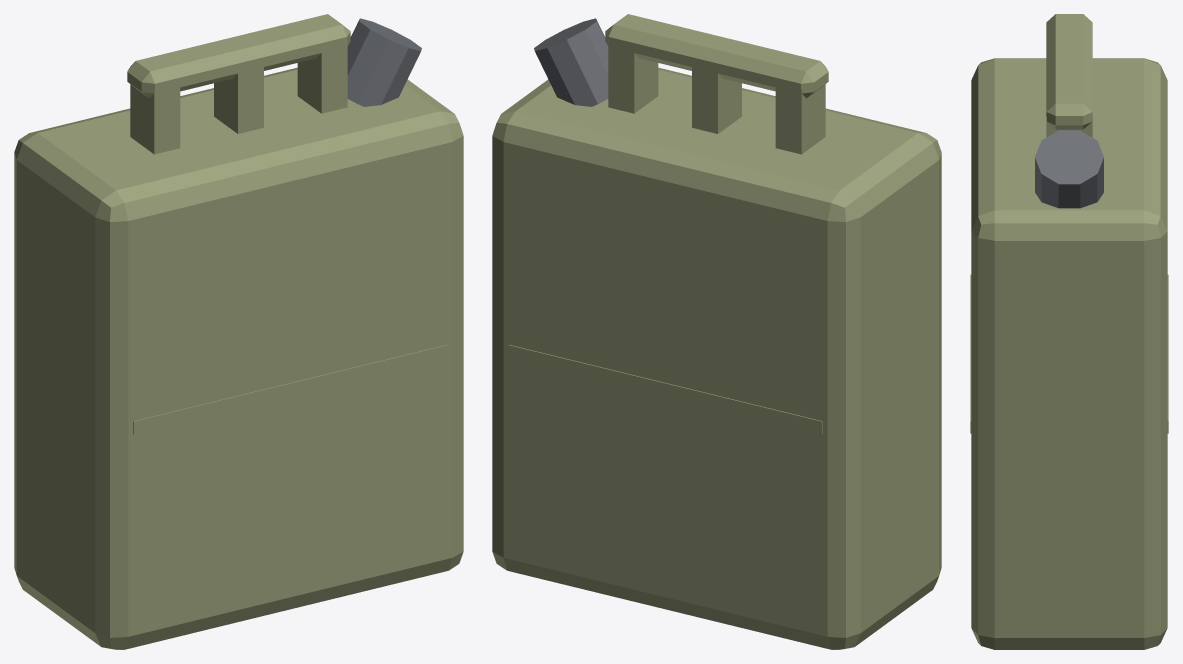
The model's file is Garage_Jerrycan.glb.
The picture shows the model from 3 angles, left to right: view 1: azimuth 30°, elevation 25°; view 2: azimuth 150°, elevation 25°; view 3: azimuth 270°, elevation 25°; orthographic projection. The views are drawn at different scales.
Parts seen in each view (by area): view 1: Garage_Jerrycan; view 2: Garage_Jerrycan; view 3: Garage_Jerrycan.
Part boxes in pixels (box(x1,y1,x2,y2)): Garage_Jerrycan: box(14, 14, 463, 649); Garage_Jerrycan: box(492, 14, 941, 649); Garage_Jerrycan: box(970, 14, 1168, 649).
Bounding box in the file's own units: 0.35 × 0.4925 × 0.172.
